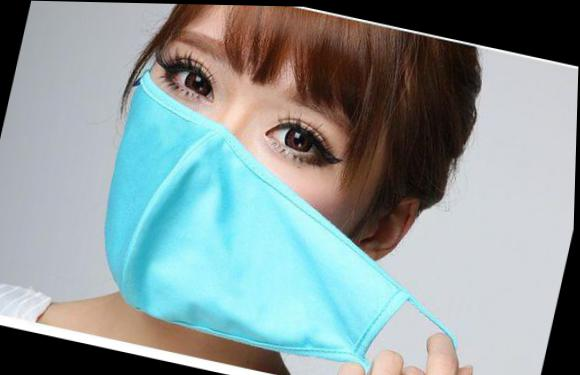WRONG: (84, 3, 418, 365)
